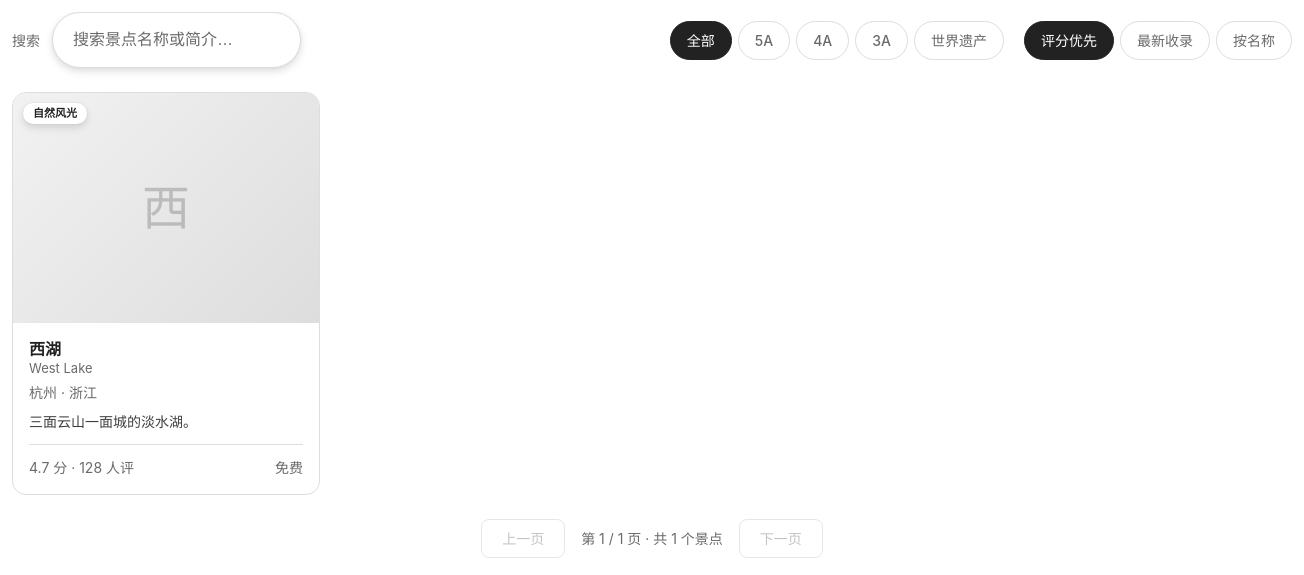
Scenario: AttractionBrowser › 等级下没有景点时给的是筛选空态, 不是「去跑种子脚本」
Expected: the heading "西湖" is shown, 29,338 -> 61,358
Click the button "3A". click: (882, 40)
box: 855,20 -> 908,60
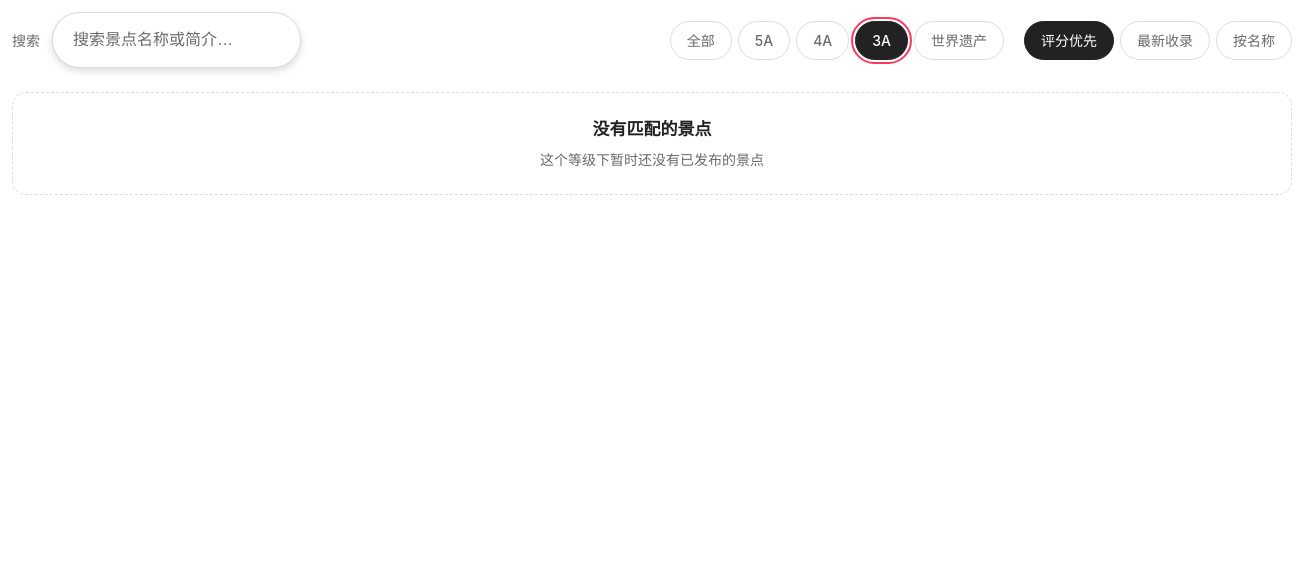
Now the text "这个等级下暂时还没有已发布的景点" is shown, box 540,150 -> 764,168
